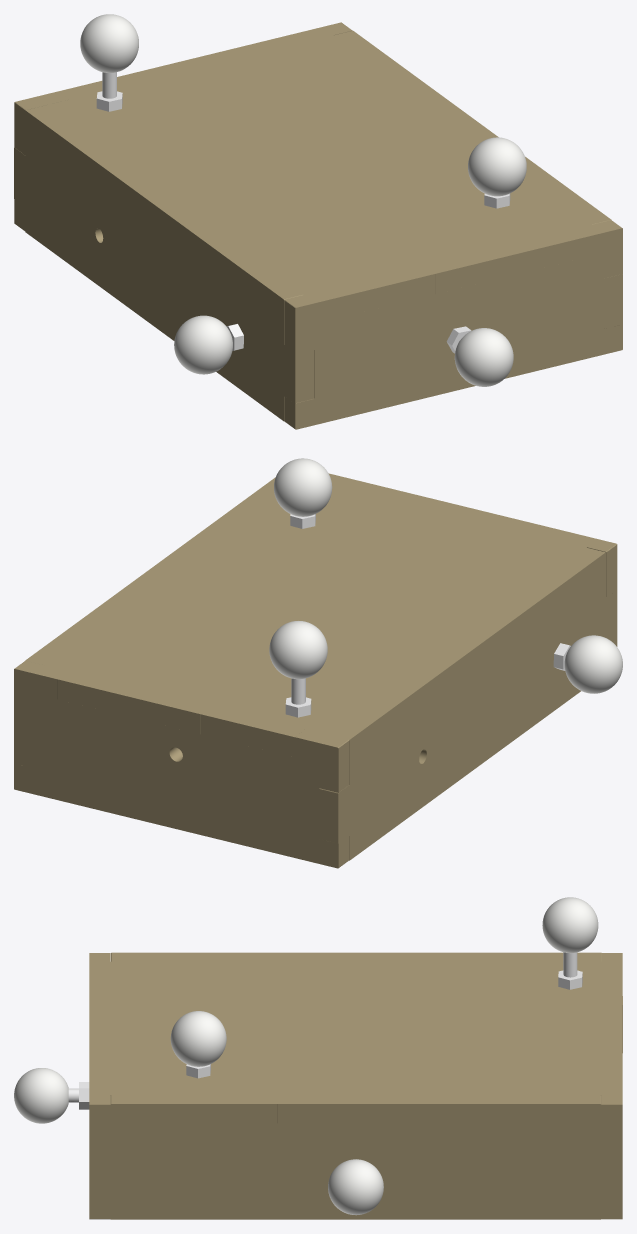
The model's file is tracked-box.fbx.
The picture shows the model from 3 angles, top to bottom: view 1: azimuth 30°, elevation 25°; view 2: azimuth 150°, elevation 25°; view 3: azimuth 270°, elevation 25°; orthographic projection. The views are drawn at different scales.
Visible parts, largest first — view 1: Body1 (×9); view 2: Body1 (×8); view 3: Body1 (×9).
Part boxes in pixels (bbox=[...]): Body1 (×9): bbox=[14, 14, 622, 429]; Body1 (×8): bbox=[14, 458, 622, 868]; Body1 (×9): bbox=[14, 897, 622, 1219].
Bounding box in the file's own units: 140 × 63.07 × 174.
